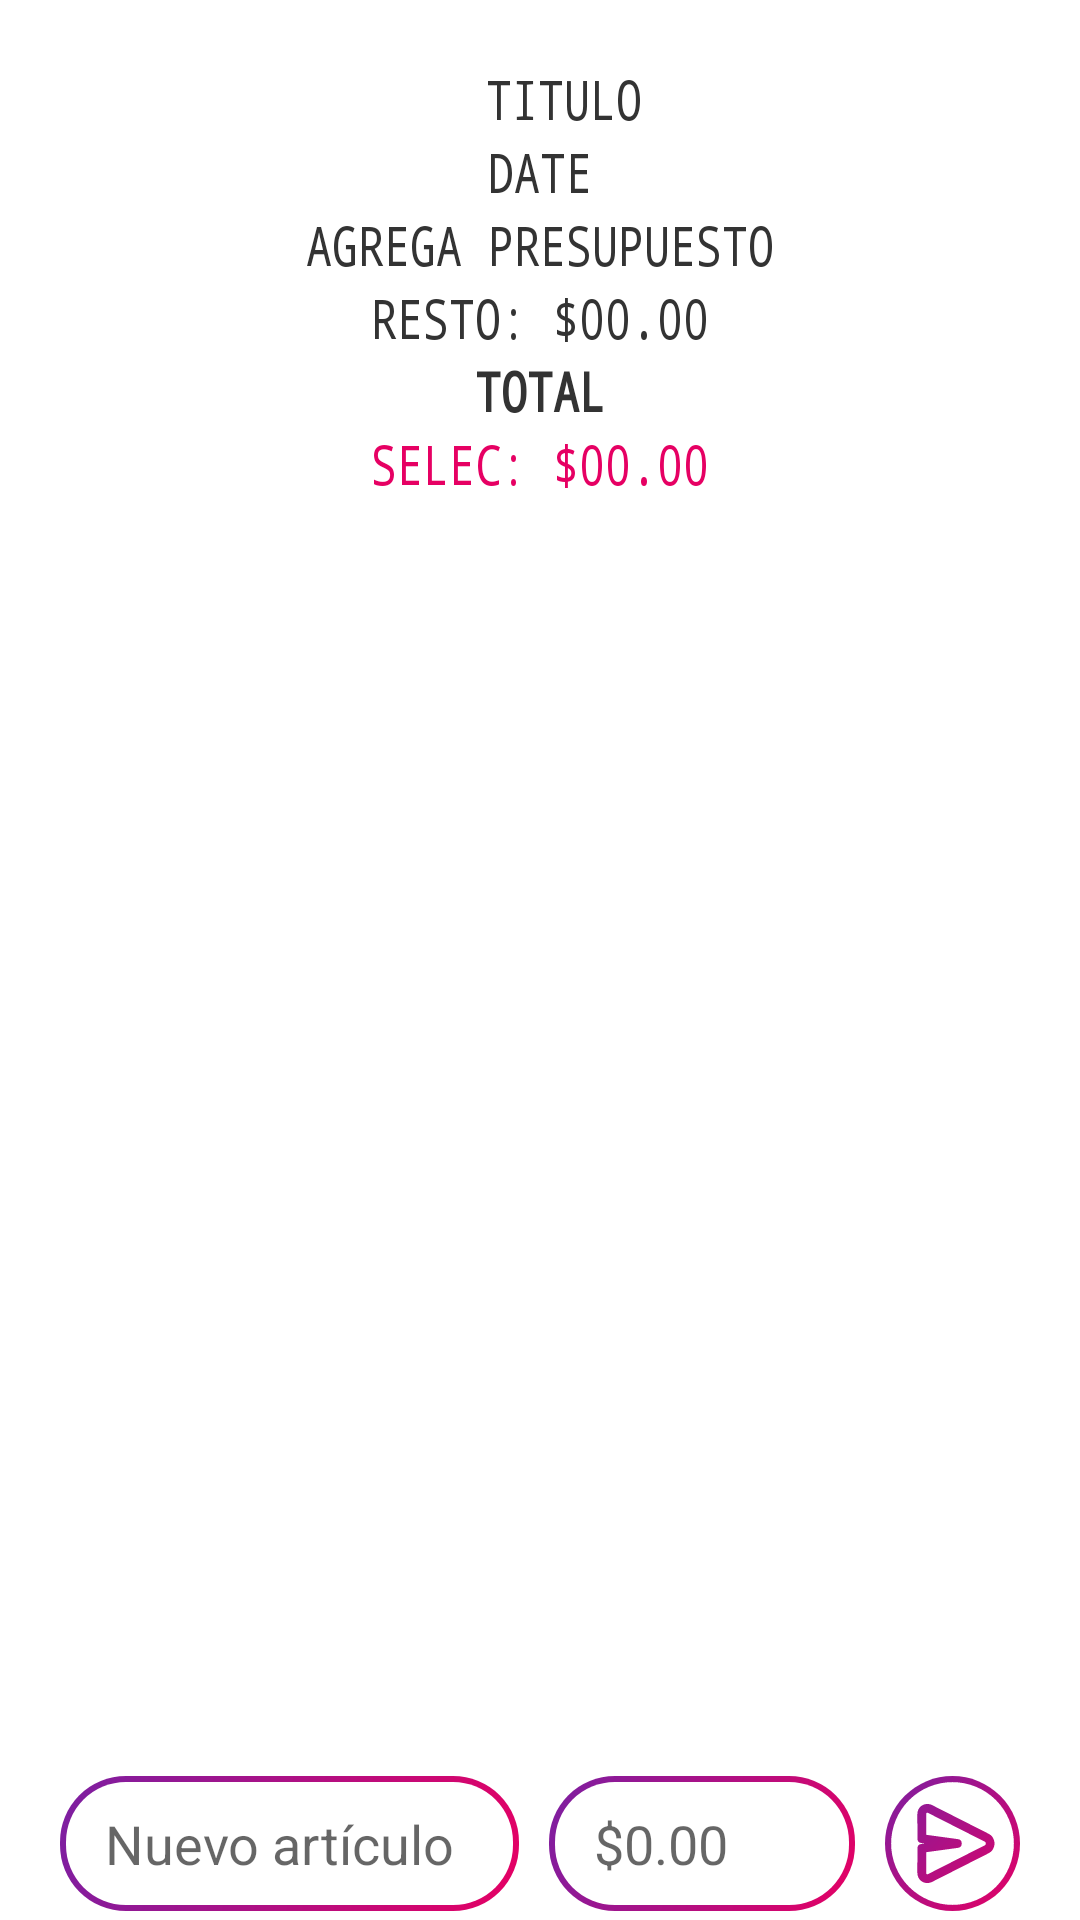

Point at icon controls on the screen. Image size 1080*1920, points as (x,y).
send: (952,1843)
